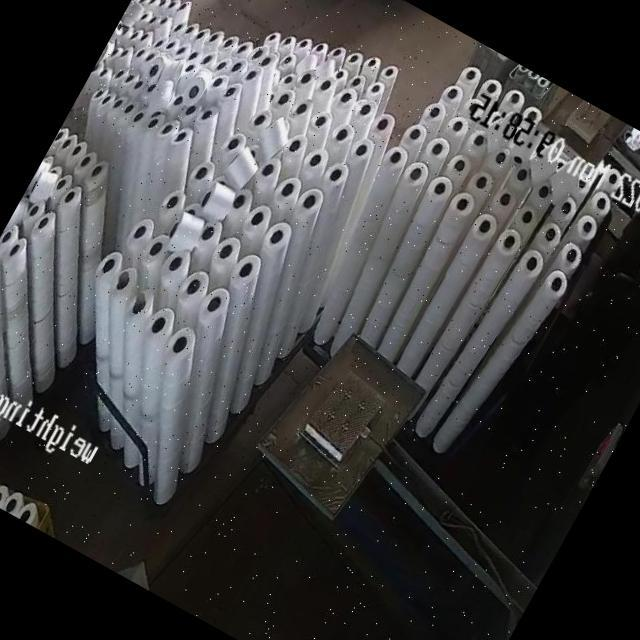person: (490, 233, 640, 477)
